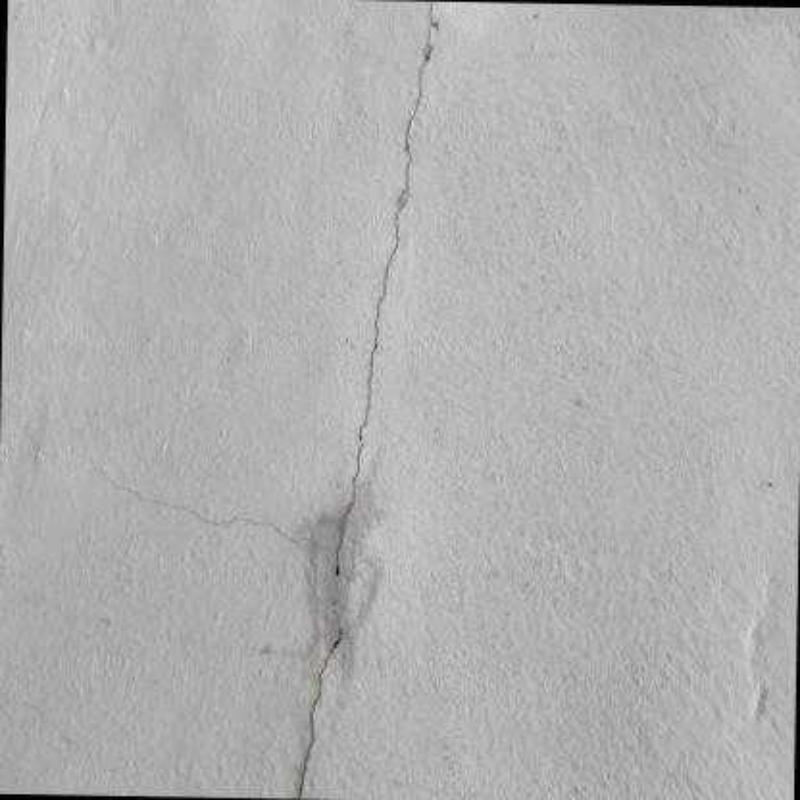crack: (293, 0, 437, 798), (0, 407, 325, 553)
